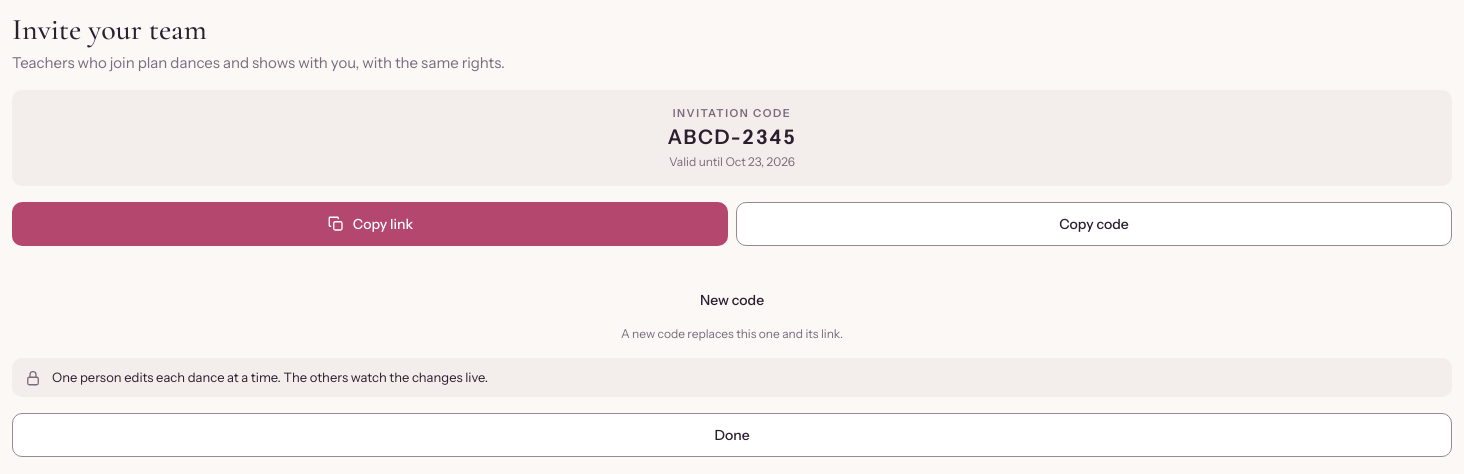
Test: with an active code › replaces the code with a new one
Click the button "New code": (732, 300) [683,278,781,322]
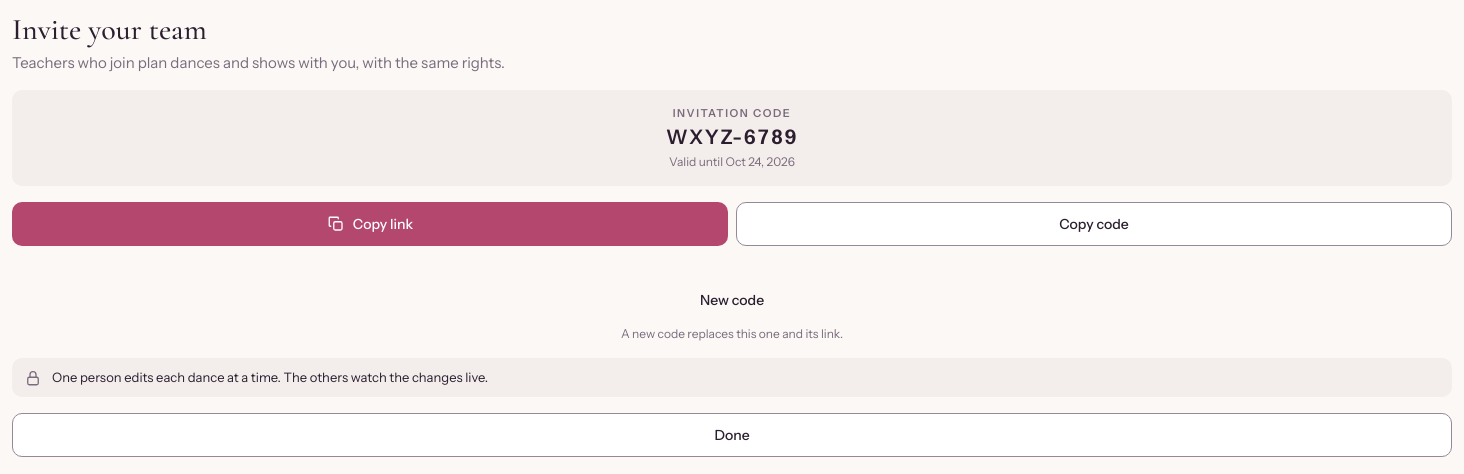
Expected: the text "WXYZ-6789" is shown, [666,124,798,150]
